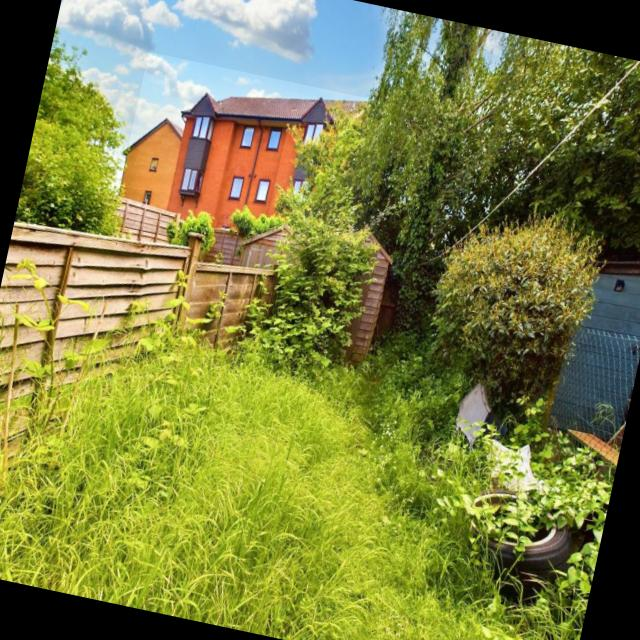House: (116, 51, 390, 258)
